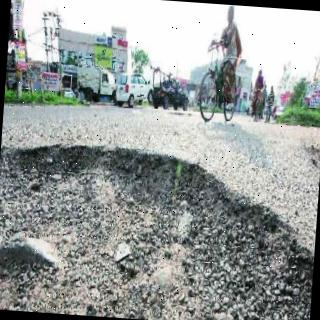pothole: (0, 145, 314, 320)
